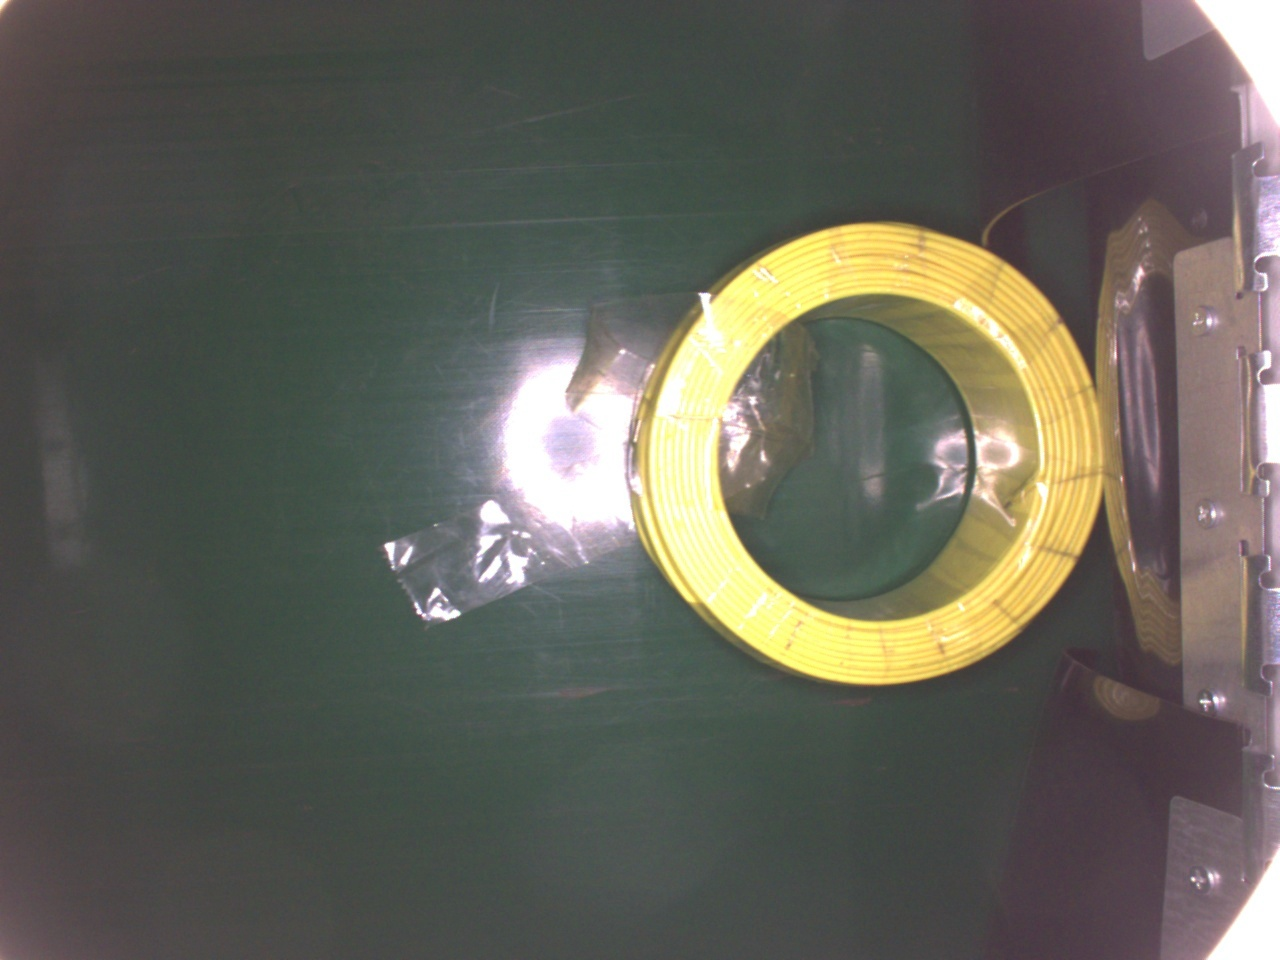yellow: (626, 215, 1106, 692)
